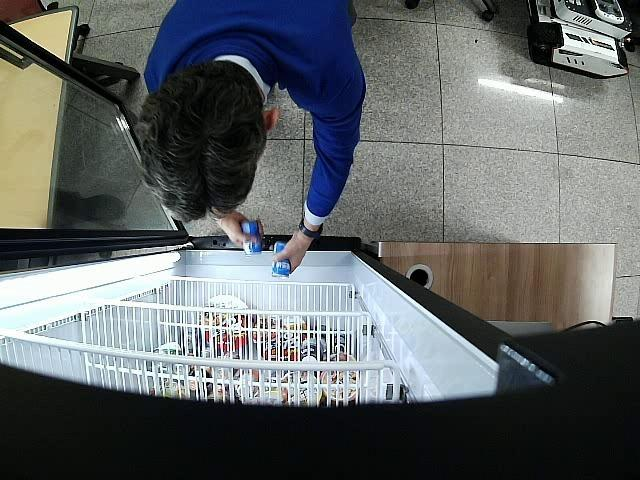15_letsbe: (241, 220, 261, 258), (272, 243, 290, 279)
